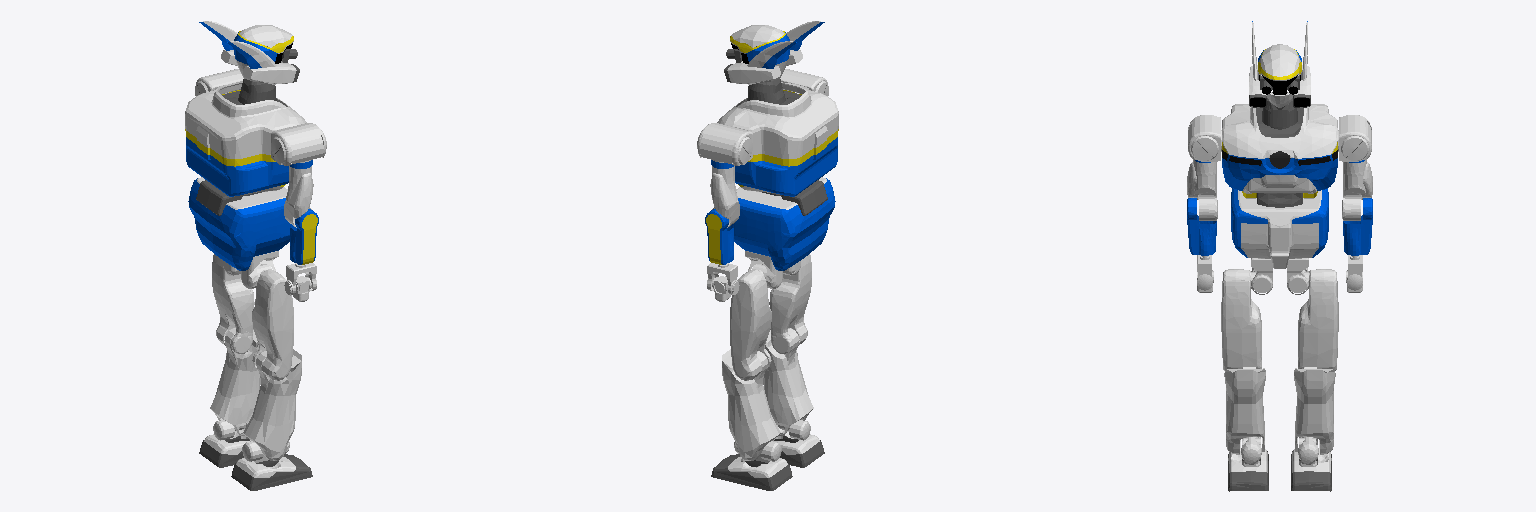
--- Render facts (derived) ---
3 views of the same robot in one strip: view 1: azimuth 30°, elevation 25°; view 2: azimuth 150°, elevation 25°; view 3: azimuth 270°, elevation 25° (orthographic).
Robot: HRP2JSK — 58 links, 57 joints (32 revolute, 3 continuous, 22 fixed); root link BODY; default pose: every joint at zero.
Visible links, largest first — view 1: CHEST_LINK1, BODY, HEAD_LINK1, RLEG_LINK2, RLEG_LINK3, LLEG_LINK3, LLEG_LINK2, RLEG_LINK5, LLEG_LINK5, RARM_LINK2, RARM_LINK3, RARM_LINK0 (+5 smaller); view 2: CHEST_LINK1, BODY, HEAD_LINK1, LLEG_LINK2, LLEG_LINK3, RLEG_LINK3, RLEG_LINK2, LLEG_LINK5, RLEG_LINK5, LARM_LINK2, LARM_LINK3, LARM_LINK0 (+5 smaller); view 3: CHEST_LINK1, BODY, LLEG_LINK2, RLEG_LINK2, HEAD_LINK1, LLEG_LINK3, RLEG_LINK3, LLEG_LINK5, RLEG_LINK5, LARM_LINK2, RARM_LINK2, LARM_LINK0 (+5 smaller).
Link boxes in pixels (left/top/right/bottom): CHEST_LINK1: left=185, top=82, right=306, bottom=196; BODY: left=188, top=177, right=290, bottom=270; HEAD_LINK1: left=199, top=21, right=299, bottom=84; RLEG_LINK2: left=252, top=269, right=293, bottom=380; RLEG_LINK3: left=243, top=349, right=301, bottom=460; LLEG_LINK3: left=210, top=328, right=260, bottom=435; LLEG_LINK2: left=212, top=254, right=254, bottom=353; RLEG_LINK5: left=231, top=441, right=312, bottom=490; LLEG_LINK5: left=199, top=420, right=251, bottom=467; RARM_LINK2: left=284, top=160, right=313, bottom=227; RARM_LINK3: left=290, top=209, right=318, bottom=264; RARM_LINK0: left=271, top=123, right=326, bottom=165; CHEST_LINK1: left=717, top=82, right=838, bottom=196; BODY: left=733, top=177, right=835, bottom=270; HEAD_LINK1: left=724, top=21, right=824, bottom=84; LLEG_LINK2: left=730, top=269, right=771, bottom=380; LLEG_LINK3: left=722, top=349, right=780, bottom=460; RLEG_LINK3: left=763, top=328, right=813, bottom=435; RLEG_LINK2: left=769, top=254, right=811, bottom=353; LLEG_LINK5: left=711, top=441, right=792, bottom=490; RLEG_LINK5: left=772, top=420, right=824, bottom=467; LARM_LINK2: left=710, top=160, right=739, bottom=227; LARM_LINK3: left=705, top=209, right=733, bottom=264; LARM_LINK0: left=697, top=123, right=752, bottom=165; CHEST_LINK1: left=1222, top=104, right=1337, bottom=198; BODY: left=1231, top=188, right=1328, bottom=268; LLEG_LINK2: left=1298, top=269, right=1338, bottom=370; RLEG_LINK2: left=1221, top=269, right=1261, bottom=370; HEAD_LINK1: left=1249, top=21, right=1310, bottom=107; LLEG_LINK3: left=1294, top=367, right=1335, bottom=454; RLEG_LINK3: left=1224, top=367, right=1265, bottom=454; LLEG_LINK5: left=1291, top=437, right=1331, bottom=491; RLEG_LINK5: left=1228, top=437, right=1268, bottom=491; LARM_LINK2: left=1342, top=159, right=1372, bottom=220; RARM_LINK2: left=1187, top=159, right=1217, bottom=220; LARM_LINK0: left=1338, top=115, right=1371, bottom=161.
Bounding box of the posed robot: 0.3537 × 0.6201 × 1.6 m (x, y, z).
Meshes: 35 distinct files referenced, 29 mesh visuals loaded (29 Collada DAE); not drawn: 2 (reference not matched to a file when rendering), 4 (file found but could not be loaded).

The robot description file, URDF, robot "HRP2JSK":
<?xml version="1.0" ?>
<!-- =================================================================================== -->
<!-- |    This document was autogenerated by xacro from [local-path]/ros/hydro/src/rtm-ros-robotics/rtmros_tutorials/hrpsys_ros_bridge_tutorials/models//HRP2JSK.urdf.xacro | -->
<!-- |    EDITING THIS FILE BY HAND IS NOT RECOMMENDED                                 | -->
<!-- =================================================================================== -->
<robot name="HRP2JSK" xmlns:xacro="http://www.ros.org/wiki/xacro" xmlns:xi="http://www.w3.org/2001/XInclude">
	<link name="BODY">
		<visual>
			<origin rpy="0 -0 0" xyz="0 0 0.715"/>
			<geometry>
				<mesh filename="package://hrpsys_ros_bridge_tutorials/models/HRP2JSK_meshes/BODY_mesh.dae" scale="1 1 1"/>
			</geometry>
		</visual>
		<collision>
			<origin rpy="0 -0 0" xyz="0 0 0.715"/>
			<geometry>
				<mesh filename="package://hrpsys_ros_bridge_tutorials/models/HRP2JSK_meshes/BODY_mesh.dae" scale="1 1 1"/>
			</geometry>
		</collision>
		<inertial>
			<mass value="15.0295"/>
			<origin rpy="0 -0 0" xyz="-0.0143514 1.2e-07 0.220077"/>
			<inertia ixx="0.161026" ixy="-2.6504e-07" ixz="0.000706962" iyy="0.09528" iyz="-1.95085e-07" izz="0.191914"/>
		</inertial>
	</link>
	<gazebo reference="BODY">
		<mu1>0.9</mu1>
		<mu2>0.9</mu2>
	</gazebo>
	<link name="CHEST_LINK0">
		<visual>
			<origin rpy="0 -0 0" xyz="0.032 0 0.3507"/>
			<geometry>
				<mesh filename="package://hrpsys_ros_bridge_tutorials/models/HRP2JSK_meshes/CHEST_LINK0_mesh.dae" scale="1 1 1"/>
			</geometry>
		</visual>
		<collision>
			<origin rpy="0 -0 0" xyz="0.032 0 0.3507"/>
			<geometry>
				<mesh filename="package://hrpsys_ros_bridge_tutorials/models/HRP2JSK_meshes/CHEST_LINK0_mesh.dae" scale="1 1 1"/>
			</geometry>
		</collision>
		<inertial>
			<mass value="0.786369"/>
			<origin rpy="0 -0 0" xyz="-0.0158016 0.00529544 -0.0251963"/>
			<inertia ixx="0.00181617" ixy="-7.322e-05" ixz="-0.00027731" iyy="0.00185079" iyz="-0.00010749" izz="0.00233207"/>
		</inertial>
	</link>
	<gazebo reference="CHEST_LINK0">
		<mu1>0.9</mu1>
		<mu2>0.9</mu2>
	</gazebo>
	<link name="CHEST_LINK1">
		<visual>
			<origin rpy="0 -0 0" xyz="0 0 0"/>
			<geometry>
				<mesh filename="package://hrpsys_ros_bridge_tutorials/models/HRP2JSK_meshes/CHEST_LINK1_mesh.dae" scale="1 1 1"/>
			</geometry>
		</visual>
		<collision>
			<origin rpy="0 -0 0" xyz="0 0 0"/>
			<geometry>
				<mesh filename="package://hrpsys_ros_bridge_tutorials/models/HRP2JSK_meshes/CHEST_LINK1_mesh.dae" scale="1 1 1"/>
			</geometry>
		</collision>
		<inertial>
			<mass value="11.5246"/>
			<origin rpy="0 -0 0" xyz="-0.0290496 0.00716411 0.121025"/>
			<inertia ixx="0.160476" ixy="-0.00135932" ixz="-0.00414493" iyy="0.136846" iyz="0.00388036" izz="0.181669"/>
		</inertial>
	</link>
	<gazebo reference="CHEST_LINK1">
		<mu1>0.9</mu1>
		<mu2>0.9</mu2>
	</gazebo>
	<link name="HEAD_LINK0">
		<visual>
			<origin rpy="0 -0 0" xyz="-0.007 0 0.2973"/>
			<geometry>
				<mesh filename="package://hrpsys_ros_bridge_tutorials/models/HRP2JSK_meshes/HEAD_LINK0_mesh.dae" scale="1 1 1"/>
			</geometry>
		</visual>
		<collision>
			<origin rpy="0 -0 0" xyz="-0.007 0 0.2973"/>
			<geometry>
				<mesh filename="package://hrpsys_ros_bridge_tutorials/models/HRP2JSK_meshes/HEAD_LINK0_mesh.dae" scale="1 1 1"/>
			</geometry>
		</collision>
		<inertial>
			<mass value="0.362181"/>
			<origin rpy="0 -0 0" xyz="-0.00090801 0.00274824 -0.00825901"/>
			<inertia ixx="0.00038285" ixy="-5.2e-07" ixz="2.24e-06" iyy="0.00021609" iyz="-7.26e-06" izz="0.0003473"/>
		</inertial>
	</link>
	<gazebo reference="HEAD_LINK0">
		<mu1>0.9</mu1>
		<mu2>0.9</mu2>
	</gazebo>
	<link name="HEAD_LINK1">
		<visual>
			<origin rpy="0 -0 0" xyz="0 0 0"/>
			<geometry>
				<mesh filename="package://hrpsys_ros_bridge_tutorials/models/HRP2JSK_meshes/HEAD_LINK1_mesh.dae" scale="1 1 1"/>
			</geometry>
		</visual>
		<collision>
			<origin rpy="0 -0 0" xyz="0 0 0"/>
			<geometry>
				<mesh filename="package://hrpsys_ros_bridge_tutorials/models/HRP2JSK_meshes/HEAD_LINK1_mesh.dae" scale="1 1 1"/>
			</geometry>
		</collision>
		<inertial>
			<mass value="0.921545"/>
			<origin rpy="0 -0 0" xyz="0.00900923 -0.00054084 0.0888815"/>
			<inertia ixx="0.00393357" ixy="4.68e-06" ixz="7.928e-05" iyy="0.00413822" iyz="-9.051e-05" izz="0.00524469"/>
		</inertial>
	</link>
	<gazebo reference="HEAD_LINK1">
		<mu1>0.9</mu1>
		<mu2>0.9</mu2>
	</gazebo>
	<link name="LARM_LINK0">
		<visual>
			<origin rpy="0 -0 0" xyz="0.008 0.25 0.181"/>
			<geometry>
				<mesh filename="package://hrpsys_ros_bridge_tutorials/models/HRP2JSK_meshes/LARM_LINK0_mesh.dae" scale="1 1 1"/>
			</geometry>
		</visual>
		<collision>
			<origin rpy="0 -0 0" xyz="0.008 0.25 0.181"/>
			<geometry>
				<mesh filename="package://hrpsys_ros_bridge_tutorials/models/HRP2JSK_meshes/LARM_LINK0_mesh.dae" scale="1 1 1"/>
			</geometry>
		</collision>
		<inertial>
			<mass value="0.810076"/>
			<origin rpy="0 -0 0" xyz="-0.00989448 -0.0464526 -0.00015316"/>
			<inertia ixx="0.00221115" ixy="0.00030424" ixz="1.47e-06" iyy="0.00184189" iyz="-4.667e-05" izz="0.00344772"/>
		</inertial>
	</link>
	<gazebo reference="LARM_LINK0">
		<mu1>0.9</mu1>
		<mu2>0.9</mu2>
	</gazebo>
	<link name="LARM_LINK1">
		<visual>
			<origin rpy="0 -0 0" xyz="0 0 0"/>
			<geometry>
				<mesh filename="package://hrpsys_ros_bridge_tutorials/models/HRP2JSK_meshes/LARM_LINK1_mesh.dae" scale="1 1 1"/>
			</geometry>
		</visual>
		<collision>
			<origin rpy="0 -0 0" xyz="0 0 0"/>
			<geometry>
				<mesh filename="package://hrpsys_ros_bridge_tutorials/models/HRP2JSK_meshes/LARM_LINK1_mesh.dae" scale="1 1 1"/>
			</geometry>
		</collision>
		<inertial>
			<mass value="1.03448"/>
			<origin rpy="0 -0 0" xyz="-0.0105646 0.0120429 -0.00948156"/>
			<inertia ixx="0.00122098" ixy="-0.00028119" ixz="9.407e-05" iyy="0.00172216" iyz="-0.00012041" izz="0.00161319"/>
		</inertial>
	</link>
	<gazebo reference="LARM_LINK1">
		<mu1>0.9</mu1>
		<mu2>0.9</mu2>
	</gazebo>
	<link name="LARM_LINK2">
		<visual>
			<origin rpy="0 -0 0" xyz="0 0 0"/>
			<geometry>
				<mesh filename="package://hrpsys_ros_bridge_tutorials/models/HRP2JSK_meshes/LARM_LINK2_mesh.dae" scale="1 1 1"/>
			</geometry>
		</visual>
		<collision>
			<origin rpy="0 -0 0" xyz="0 0 0"/>
			<geometry>
				<mesh filename="package://hrpsys_ros_bridge_tutorials/models/HRP2JSK_meshes/LARM_LINK2_mesh.dae" scale="1 1 1"/>
			</geometry>
		</collision>
		<inertial>
			<mass value="1.59929"/>
			<origin rpy="0 -0 0" xyz="-0.00543072 0.00479797 -0.166872"/>
			<inertia ixx="0.00973049" ixy="5.13304e-05" ixz="-0.000199167" iyy="0.00970372" iyz="-0.000137469" izz="0.00135331"/>
		</inertial>
	</link>
	<gazebo reference="LARM_LINK2">
		<mu1>0.9</mu1>
		<mu2>0.9</mu2>
	</gazebo>
	<link name="LARM_LINK3">
		<visual>
			<origin rpy="0 -0 0" xyz="0 0 -0.25"/>
			<geometry>
				<mesh filename="package://hrpsys_ros_bridge_tutorials/models/HRP2JSK_meshes/LARM_LINK3_mesh.dae" scale="1 1 1"/>
			</geometry>
		</visual>
		<collision>
			<origin rpy="0 -0 0" xyz="0 0 -0.25"/>
			<geometry>
				<mesh filename="package://hrpsys_ros_bridge_tutorials/models/HRP2JSK_meshes/LARM_LINK3_mesh.dae" scale="1 1 1"/>
			</geometry>
		</collision>
		<inertial>
			<mass value="0.77725"/>
			<origin rpy="0 -0 0" xyz="-9.27e-06 0.0161684 -0.0627016"/>
			<inertia ixx="0.00232668" ixy="-7e-08" ixz="-3.1e-07" iyy="0.00212476" iyz="-0.00015097" izz="0.00056363"/>
		</inertial>
	</link>
	<gazebo reference="LARM_LINK3">
		<mu1>0.9</mu1>
		<mu2>0.9</mu2>
	</gazebo>
	<link name="LARM_LINK4">
		<visual>
			<origin rpy="0 -0 0" xyz="0 0 -0.25"/>
			<geometry>
				<mesh filename="package://hrpsys_ros_bridge_tutorials/models/HRP2JSK_meshes/LARM_LINK4_mesh.dae" scale="1 1 1"/>
			</geometry>
		</visual>
		<collision>
			<origin rpy="0 -0 0" xyz="0 0 -0.25"/>
			<geometry>
				<mesh filename="package://hrpsys_ros_bridge_tutorials/models/HRP2JSK_meshes/LARM_LINK4_mesh.dae" scale="1 1 1"/>
			</geometry>
		</collision>
		<inertial>
			<mass value="0.328543"/>
			<origin rpy="0 -0 0" xyz="-0.00840122 -1.406e-05 0.0472199"/>
			<inertia ixx="0.00084438" ixy="4e-08" ixz="-0.00013812" iyy="0.00105692" iyz="2.3e-07" izz="0.00034468"/>
		</inertial>
	</link>
	<gazebo reference="LARM_LINK4">
		<mu1>0.9</mu1>
		<mu2>0.9</mu2>
	</gazebo>
	<link name="LARM_LINK5">
		<visual>
			<origin rpy="0 -0 0" xyz="0 0 0"/>
			<geometry>
				<mesh filename="package://hrpsys_ros_bridge_tutorials/models/HRP2JSK_meshes/LARM_LINK5_mesh.dae" scale="1 1 1"/>
			</geometry>
		</visual>
		<collision>
			<origin rpy="0 -0 0" xyz="0 0 0"/>
			<geometry>
				<mesh filename="package://hrpsys_ros_bridge_tutorials/models/HRP2JSK_meshes/LARM_LINK5_mesh.dae" scale="1 1 1"/>
			</geometry>
		</collision>
		<inertial>
			<mass value="0.460767"/>
			<origin rpy="0 -0 0" xyz="0.00361678 0.00180569 -0.00656872"/>
			<inertia ixx="0.00026432" ixy="3.17e-06" ixz="-1.177e-05" iyy="0.0002938" iyz="-1.08e-05" izz="0.0002986"/>
		</inertial>
	</link>
	<gazebo reference="LARM_LINK5">
		<mu1>0.9</mu1>
		<mu2>0.9</mu2>
	</gazebo>
	<link name="LARM_LINK6">
		<visual>
			<origin rpy="0 -0 0" xyz="0 0 0"/>
			<geometry>
				<mesh filename="package://hrpsys_ros_bridge_tutorials/models/HRP2JSK_meshes/LARM_LINK6_mesh.dae" scale="1 1 1"/>
			</geometry>
		</visual>
		<collision>
			<origin rpy="0 -0 0" xyz="0 0 0"/>
			<geometry>
				<mesh filename="package://hrpsys_ros_bridge_tutorials/models/HRP2JSK_meshes/LARM_LINK6_mesh.dae" scale="1 1 1"/>
			</geometry>
		</collision>
		<inertial>
			<mass value="0.756491"/>
			<origin rpy="0 -0 0" xyz="0.00067085 0.00738842 -0.085722"/>
			<inertia ixx="0.00227076" ixy="6.3e-07" ixz="3.217e-05" iyy="0.00214173" iyz="-3.72e-06" izz="0.00067255"/>
		</inertial>
	</link>
	<gazebo reference="LARM_LINK6">
		<mu1>0.9</mu1>
		<mu2>0.9</mu2>
	</gazebo>
	<link name="LARM_LINK7">
		<visual>
			<origin rpy="0 -0 0" xyz="0 -0.0169 -0.114"/>
			<geometry>
				<mesh filename="package://hrpsys_ros_bridge_tutorials/models/HRP2JSK_meshes/LARM_LINK7_mesh.dae" scale="1 1 1"/>
			</geometry>
		</visual>
		<collision>
			<origin rpy="0 -0 0" xyz="0 -0.0169 -0.114"/>
			<geometry>
				<mesh filename="package://hrpsys_ros_bridge_tutorials/models/HRP2JSK_meshes/LARM_LINK7_mesh.dae" scale="1 1 1"/>
			</geometry>
		</collision>
		<inertial>
			<mass value="0.0843421"/>
			<origin rpy="0 -0 0" xyz="0.00445476 0.00013498 -0.0281197"/>
			<inertia ixx="8.154e-05" ixy="-5e-08" ixz="1.084e-05" iyy="8.698e-05" iyz="3.1e-07" izz="1.3e-05"/>
		</inertial>
	</link>
	<gazebo reference="LARM_LINK7">
		<mu1>0.9</mu1>
		<mu2>0.9</mu2>
	</gazebo>
	<link name="RARM_LINK0">
		<visual>
			<origin rpy="0 -0 0" xyz="0.008 -0.25 0.181"/>
			<geometry>
				<mesh filename="package://hrpsys_ros_bridge_tutorials/models/HRP2JSK_meshes/RARM_LINK0_mesh.dae" scale="1 1 1"/>
			</geometry>
		</visual>
		<collision>
			<origin rpy="0 -0 0" xyz="0.008 -0.25 0.181"/>
			<geometry>
				<mesh filename="package://hrpsys_ros_bridge_tutorials/models/HRP2JSK_meshes/RARM_LINK0_mesh.dae" scale="1 1 1"/>
			</geometry>
		</collision>
		<inertial>
			<mass value="0.810076"/>
			<origin rpy="0 -0 0" xyz="-0.00989448 0.0464526 -0.00015316"/>
			<inertia ixx="0.00221115" ixy="-0.00030424" ixz="1.47e-06" iyy="0.00184189" iyz="4.667e-05" izz="0.00344772"/>
		</inertial>
	</link>
	<gazebo reference="RARM_LINK0">
		<mu1>0.9</mu1>
		<mu2>0.9</mu2>
	</gazebo>
	<link name="RARM_LINK1">
		<visual>
			<origin rpy="0 -0 0" xyz="0 0 0"/>
			<geometry>
				<mesh filename="package://hrpsys_ros_bridge_tutorials/models/HRP2JSK_meshes/RARM_LINK1_mesh.dae" scale="1 1 1"/>
			</geometry>
		</visual>
		<collision>
			<origin rpy="0 -0 0" xyz="0 0 0"/>
			<geometry>
				<mesh filename="package://hrpsys_ros_bridge_tutorials/models/HRP2JSK_meshes/RARM_LINK1_mesh.dae" scale="1 1 1"/>
			</geometry>
		</collision>
		<inertial>
			<mass value="1.03448"/>
			<origin rpy="0 -0 0" xyz="-0.0105646 -0.0120429 -0.00948156"/>
			<inertia ixx="0.00122098" ixy="0.00028119" ixz="9.407e-05" iyy="0.00172216" iyz="0.00012041" izz="0.00161319"/>
		</inertial>
	</link>
	<gazebo reference="RARM_LINK1">
		<mu1>0.9</mu1>
		<mu2>0.9</mu2>
	</gazebo>
	<link name="RARM_LINK2">
		<visual>
			<origin rpy="0 -0 0" xyz="0 0 0"/>
			<geometry>
				<mesh filename="package://hrpsys_ros_bridge_tutorials/models/HRP2JSK_meshes/RARM_LINK2_mesh.dae" scale="1 1 1"/>
			</geometry>
		</visual>
		<collision>
			<origin rpy="0 -0 0" xyz="0 0 0"/>
			<geometry>
				<mesh filename="package://hrpsys_ros_bridge_tutorials/models/HRP2JSK_meshes/RARM_LINK2_mesh.dae" scale="1 1 1"/>
			</geometry>
		</collision>
		<inertial>
			<mass value="1.59929"/>
			<origin rpy="0 -0 0" xyz="-0.00543072 -0.00479797 -0.166872"/>
			<inertia ixx="0.00973049" ixy="-5.13304e-05" ixz="-0.000199167" iyy="0.00970372" iyz="0.000137469" izz="0.00135331"/>
		</inertial>
	</link>
	<gazebo reference="RARM_LINK2">
		<mu1>0.9</mu1>
		<mu2>0.9</mu2>
	</gazebo>
	<link name="RARM_LINK3">
		<visual>
			<origin rpy="0 -0 0" xyz="0 0 -0.25"/>
			<geometry>
				<mesh filename="package://hrpsys_ros_bridge_tutorials/models/HRP2JSK_meshes/RARM_LINK3_mesh.dae" scale="1 1 1"/>
			</geometry>
		</visual>
		<collision>
			<origin rpy="0 -0 0" xyz="0 0 -0.25"/>
			<geometry>
				<mesh filename="package://hrpsys_ros_bridge_tutorials/models/HRP2JSK_meshes/RARM_LINK3_mesh.dae" scale="1 1 1"/>
			</geometry>
		</collision>
		<inertial>
			<mass value="0.77725"/>
			<origin rpy="0 -0 0" xyz="-9.27e-06 -0.0161684 -0.0627016"/>
			<inertia ixx="0.00232668" ixy="7e-08" ixz="-3.1e-07" iyy="0.00212476" iyz="0.00015097" izz="0.00056363"/>
		</inertial>
	</link>
	<gazebo reference="RARM_LINK3">
		<mu1>0.9</mu1>
		<mu2>0.9</mu2>
	</gazebo>
	<link name="RARM_LINK4">
		<visual>
			<origin rpy="0 -0 0" xyz="0 0 -0.25"/>
			<geometry>
				<mesh filename="package://hrpsys_ros_bridge_tutorials/models/HRP2JSK_meshes/RARM_LINK4_mesh.dae" scale="1 1 1"/>
			</geometry>
		</visual>
		<collision>
			<origin rpy="0 -0 0" xyz="0 0 -0.25"/>
			<geometry>
				<mesh filename="package://hrpsys_ros_bridge_tutorials/models/HRP2JSK_meshes/RARM_LINK4_mesh.dae" scale="1 1 1"/>
			</geometry>
		</collision>
		<inertial>
			<mass value="0.328543"/>
			<origin rpy="0 -0 0" xyz="-0.00840122 1.406e-05 0.0472199"/>
			<inertia ixx="0.00084438" ixy="-4e-08" ixz="-0.00013812" iyy="0.00105692" iyz="-2.3e-07" izz="0.00034468"/>
		</inertial>
	</link>
	<gazebo reference="RARM_LINK4">
		<mu1>0.9</mu1>
		<mu2>0.9</mu2>
	</gazebo>
	<link name="RARM_LINK5">
		<visual>
			<origin rpy="0 -0 0" xyz="0 0 0"/>
			<geometry>
				<mesh filename="package://hrpsys_ros_bridge_tutorials/models/HRP2JSK_meshes/RARM_LINK5_mesh.dae" scale="1 1 1"/>
			</geometry>
		</visual>
		<collision>
			<origin rpy="0 -0 0" xyz="0 0 0"/>
			<geometry>
				<mesh filename="package://hrpsys_ros_bridge_tutorials/models/HRP2JSK_meshes/RARM_LINK5_mesh.dae" scale="1 1 1"/>
			</geometry>
		</collision>
		<inertial>
			<mass value="0.460767"/>
			<origin rpy="0 -0 0" xyz="0.00361678 -0.00180569 -0.00656872"/>
			<inertia ixx="0.00026432" ixy="-3.17e-06" ixz="-1.177e-05" iyy="0.0002938" iyz="1.08e-05" izz="0.0002986"/>
		</inertial>
	</link>
	<gazebo reference="RARM_LINK5">
		<mu1>0.9</mu1>
		<mu2>0.9</mu2>
	</gazebo>
	<link name="RARM_LINK6">
		<visual>
			<origin rpy="0 -0 0" xyz="0 0 0"/>
			<geometry>
				<mesh filename="package://hrpsys_ros_bridge_tutorials/models/HRP2JSK_meshes/RARM_LINK6_mesh.dae" scale="1 1 1"/>
			</geometry>
		</visual>
		<collision>
			<origin rpy="0 -0 0" xyz="0 0 0"/>
			<geometry>
				<mesh filename="package://hrpsys_ros_bridge_tutorials/models/HRP2JSK_meshes/RARM_LINK6_mesh.dae" scale="1 1 1"/>
			</geometry>
		</collision>
		<inertial>
			<mass value="0.756491"/>
			<origin rpy="0 -0 0" xyz="0.00067085 -0.00738842 -0.085722"/>
			<inertia ixx="0.00227076" ixy="-6.3e-07" ixz="3.217e-05" iyy="0.00214173" iyz="3.72e-06" izz="0.00067255"/>
		</inertial>
	</link>
	<gazebo reference="RARM_LINK6">
		<mu1>0.9</mu1>
		<mu2>0.9</mu2>
	</gazebo>
	<link name="RARM_LINK7">
		<visual>
			<origin rpy="0 -0 0" xyz="0 0.0169 -0.114"/>
			<geometry>
				<mesh filename="package://hrpsys_ros_bridge_tutorials/models/HRP2JSK_meshes/RARM_LINK7_mesh.dae" scale="1 1 1"/>
			</geometry>
		</visual>
		<collision>
			<origin rpy="0 -0 0" xyz="0 0.0169 -0.114"/>
			<geometry>
				<mesh filename="package://hrpsys_ros_bridge_tutorials/models/HRP2JSK_meshes/RARM_LINK7_mesh.dae" scale="1 1 1"/>
			</geometry>
		</collision>
		<inertial>
			<mass value="0.0843421"/>
			<origin rpy="0 -0 0" xyz="0.00445476 -0.00013498 -0.0281197"/>
			<inertia ixx="8.154e-05" ixy="5e-08" ixz="1.084e-05" iyy="8.698e-05" iyz="-3.1e-07" izz="1.3e-05"/>
		</inertial>
	</link>
	<gazebo reference="RARM_LINK7">
		<mu1>0.9</mu1>
		<mu2>0.9</mu2>
	</gazebo>
	<link name="LLEG_LINK0">
		<visual>
			<origin rpy="0 -0 0" xyz="0 0.06 0"/>
			<geometry>
				<mesh filename="package://hrpsys_ros_bridge_tutorials/models/HRP2JSK_meshes/LLEG_LINK0_mesh.dae" scale="1 1 1"/>
			</geometry>
		</visual>
		<collision>
			<origin rpy="0 -0 0" xyz="0 0.06 0"/>
			<geometry>
				<mesh filename="package://hrpsys_ros_bridge_tutorials/models/HRP2JSK_meshes/LLEG_LINK0_mesh.dae" scale="1 1 1"/>
			</geometry>
		</collision>
		<inertial>
			<mass value="1.16852"/>
			<origin rpy="0 -0 0" xyz="-0.0103793 -0.00484329 0.0649015"/>
			<inertia ixx="0.00285998" ixy="1.43424e-05" ixz="-0.000555819" iyy="0.00352974" iyz="-8.84038e-06" izz="0.00145427"/>
		</inertial>
	</link>
	<gazebo reference="LLEG_LINK0">
		<mu1>0.9</mu1>
		<mu2>0.9</mu2>
	</gazebo>
	<link name="LLEG_LINK1">
		<visual>
			<origin rpy="0 -0 0" xyz="0 0 0"/>
			<geometry>
				<mesh filename="package://hrpsys_ros_bridge_tutorials/models/HRP2JSK_meshes/LLEG_LINK1_mesh.dae" scale="1 1 1"/>
			</geometry>
		</visual>
		<collision>
			<origin rpy="0 -0 0" xyz="0 0 0"/>
			<geometry>
				<mesh filename="package://hrpsys_ros_bridge_tutorials/models/HRP2JSK_meshes/LLEG_LINK1_mesh.dae" scale="1 1 1"/>
			</geometry>
		</collision>
		<inertial>
			<mass value="0.80553"/>
			<origin rpy="0 -0 0" xyz="-0.00039826 0.0261287 -0.00292156"/>
			<inertia ixx="0.00126683" ixy="-1.211e-05" ixz="1.64e-06" iyy="0.00050656" iyz="-6.938e-05" izz="0.00132021"/>
		</inertial>
	</link>
	<gazebo reference="LLEG_LINK1">
		<mu1>0.9</mu1>
		<mu2>0.9</mu2>
	</gazebo>
	<link name="LLEG_LINK2">
		<visual>
			<origin rpy="0 -0 0" xyz="0 0 0"/>
			<geometry>
				<mesh filename="package://hrpsys_ros_bridge_tutorials/models/HRP2JSK_meshes/LLEG_LINK2_mesh.dae" scale="1 1 1"/>
			</geometry>
		</visual>
		<collision>
			<origin rpy="0 -0 0" xyz="0 0 0"/>
			<geometry>
				<mesh filename="package://hrpsys_ros_bridge_tutorials/models/HRP2JSK_meshes/LLEG_LINK2_mesh.dae" scale="1 1 1"/>
			</geometry>
		</collision>
		<inertial>
			<mass value="2.07632"/>
			<origin rpy="0 -0 0" xyz="0.00345946 0.0779422 -0.151684"/>
			<inertia ixx="0.0261976" ixy="3.95406e-05" ixz="0.000573517" iyy="0.0249235" iyz="-0.000670077" izz="0.00376439"/>
		</inertial>
	</link>
	<gazebo reference="LLEG_LINK2">
		<mu1>0.9</mu1>
		<mu2>0.9</mu2>
	</gazebo>
	<link name="LLEG_LINK3">
		<visual>
			<origin rpy="0 -0 0" xyz="0 0 -0.3"/>
			<geometry>
				<mesh filename="package://hrpsys_ros_bridge_tutorials/models/HRP2JSK_meshes/LLEG_LINK3_mesh.dae" scale="1 1 1"/>
			</geometry>
		</visual>
		<collision>
			<origin rpy="0 -0 0" xyz="0 0 -0.3"/>
			<geometry>
				<mesh filename="package://hrpsys_ros_bridge_tutorials/models/HRP2JSK_meshes/LLEG_LINK3_mesh.dae" scale="1 1 1"/>
			</geometry>
		</collision>
		<inertial>
			<mass value="1.74762"/>
			<origin rpy="0 -0 0" xyz="0.0179878 0.0579164 -0.13839"/>
			<inertia ixx="0.0223269" ixy="9.39152e-05" ixz="-0.00224766" iyy="0.022506" iyz="0.000745178" izz="0.0045544"/>
		</inertial>
	</link>
	<gazebo reference="LLEG_LINK3">
		<mu1>0.9</mu1>
		<mu2>0.9</mu2>
	</gazebo>
	<link name="LLEG_LINK4">
		<visual>
			<origin rpy="0 -0 0" xyz="0 0.035 -0.3"/>
			<geometry>
				<mesh filename="package://hrpsys_ros_bridge_tutorials/models/HRP2JSK_meshes/LLEG_LINK4_mesh.dae" scale="1 1 1"/>
			</geometry>
		</visual>
		<collision>
			<origin rpy="0 -0 0" xyz="0 0.035 -0.3"/>
			<geometry>
				<mesh filename="package://hrpsys_ros_bridge_tutorials/models/HRP2JSK_meshes/LLEG_LINK4_mesh.dae" scale="1 1 1"/>
			</geometry>
		</collision>
		<inertial>
			<mass value="0.65375"/>
			<origin rpy="0 -0 0" xyz="0.00827083 0.00133301 -0.002418"/>
			<inertia ixx="0.00027773" ixy="5.26e-06" ixz="1.354e-05" iyy="0.00078966" iyz="3.59e-06" izz="0.00086039"/>
		</inertial>
	</link>
	<gazebo reference="LLEG_LINK4">
		<mu1>0.9</mu1>
		<mu2>0.9</mu2>
	</gazebo>
	<link name="LLEG_LINK5">
		<visual>
			<origin rpy="0 -0 0" xyz="0 0 0"/>
			<geometry>
				<mesh filename="package://hrpsys_ros_bridge_tutorials/models/HRP2JSK_meshes/LLEG_LINK5_mesh.dae" scale="1 1 1"/>
			</geometry>
		</visual>
		<inertial>
			<mass value="1.63877"/>
			<origin rpy="0 -0 0" xyz="-0.00066419 0.00468922 -0.0653813"/>
			<inertia ixx="0.00400076" ixy="-9.983e-05" ixz="0.00079295" iyy="0.00687611" iyz="0.00018541" izz="0.00711516"/>
		</inertial>
		<collision>
			<origin rpy="0 -0 0" xyz="0.015 0.010 -0.08"/>
			<geometry>
				<box size="0.240 0.138 0.07"/>
			</geometry>
		</collision>
	</link>
	<link name="RLEG_LINK0">
		<visual>
			<origin rpy="0 -0 0" xyz="0 -0.06 0"/>
			<geometry>
				<mesh filename="package://hrpsys_ros_bridge_tutorials/models/HRP2JSK_meshes/RLEG_LINK0_mesh.dae" scale="1 1 1"/>
			</geometry>
		</visual>
		<collision>
			<origin rpy="0 -0 0" xyz="0 -0.06 0"/>
			<geometry>
				<mesh filename="package://hrpsys_ros_bridge_tutorials/models/HRP2JSK_meshes/RLEG_LINK0_mesh.dae" scale="1 1 1"/>
			</geometry>
		</collision>
		<inertial>
			<mass value="1.16852"/>
			<origin rpy="0 -0 0" xyz="-0.0103793 0.00484329 0.0649015"/>
			<inertia ixx="0.00285998" ixy="-1.43424e-05" ixz="-0.000555819" iyy="0.00352974" iyz="8.84038e-06" izz="0.00145427"/>
		</inertial>
	</link>
	<gazebo reference="RLEG_LINK0">
		<mu1>0.9</mu1>
		<mu2>0.9</mu2>
	</gazebo>
	<link name="RLEG_LINK1">
		<visual>
			<origin rpy="0 -0 0" xyz="0 0 0"/>
			<geometry>
				<mesh filename="package://hrpsys_ros_bridge_tutorials/models/HRP2JSK_meshes/RLEG_LINK1_mesh.dae" scale="1 1 1"/>
			</geometry>
		</visual>
		<collision>
			<origin rpy="0 -0 0" xyz="0 0 0"/>
			<geometry>
				<mesh filename="package://hrpsys_ros_bridge_tutorials/models/HRP2JSK_meshes/RLEG_LINK1_mesh.dae" scale="1 1 1"/>
			</geometry>
		</collision>
		<inertial>
			<mass value="0.80553"/>
			<origin rpy="0 -0 0" xyz="-0.00039826 -0.0261287 -0.00292156"/>
			<inertia ixx="0.00126683" ixy="1.211e-05" ixz="1.64e-06" iyy="0.00050656" iyz="6.938e-05" izz="0.00132021"/>
		</inertial>
	</link>
	<gazebo reference="RLEG_LINK1">
		<mu1>0.9</mu1>
		<mu2>0.9</mu2>
	</gazebo>
	<link name="RLEG_LINK2">
		<visual>
			<origin rpy="0 -0 0" xyz="0 0 0"/>
			<geometry>
				<mesh filename="package://hrpsys_ros_bridge_tutorials/models/HRP2JSK_meshes/RLEG_LINK2_mesh.dae" scale="1 1 1"/>
			</geometry>
		</visual>
		<collision>
			<origin rpy="0 -0 0" xyz="0 0 0"/>
			<geometry>
				<mesh filename="package://hrpsys_ros_bridge_tutorials/models/HRP2JSK_meshes/RLEG_LINK2_mesh.dae" scale="1 1 1"/>
			</geometry>
		</collision>
		<inertial>
			<mass value="2.07632"/>
			<origin rpy="0 -0 0" xyz="0.00345946 -0.0779422 -0.151684"/>
			<inertia ixx="0.0261976" ixy="-3.95406e-05" ixz="0.000573517" iyy="0.0249235" iyz="0.000670077" izz="0.00376439"/>
		</inertial>
	</link>
	<gazebo reference="RLEG_LINK2">
		<mu1>0.9</mu1>
		<mu2>0.9</mu2>
	</gazebo>
	<link name="RLEG_LINK3">
		<visual>
			<origin rpy="0 -0 0" xyz="0 0 -0.3"/>
			<geometry>
				<mesh filename="package://hrpsys_ros_bridge_tutorials/models/HRP2JSK_meshes/RLEG_LINK3_mesh.dae" scale="1 1 1"/>
			</geometry>
		</visual>
		<collision>
			<origin rpy="0 -0 0" xyz="0 0 -0.3"/>
			<geometry>
				<mesh filename="package://hrpsys_ros_bridge_tutorials/models/HRP2JSK_meshes/RLEG_LINK3_mesh.dae" scale="1 1 1"/>
			</geometry>
		</collision>
		<inertial>
			<mass value="1.74762"/>
			<origin rpy="0 -0 0" xyz="0.0179878 -0.0579164 -0.13839"/>
			<inertia ixx="0.0223269" ixy="-9.39152e-05" ixz="-0.00224766" iyy="0.022506" iyz="-0.000745178" izz="0.0045544"/>
		</inertial>
	</link>
	<gazebo reference="RLEG_LINK3">
		<mu1>0.9</mu1>
		<mu2>0.9</mu2>
	</gazebo>
	<link name="RLEG_LINK4">
		<visual>
			<origin rpy="0 -0 0" xyz="0 -0.035 -0.3"/>
			<geometry>
				<mesh filename="package://hrpsys_ros_bridge_tutorials/models/HRP2JSK_meshes/RLEG_LINK4_mesh.dae" scale="1 1 1"/>
			</geometry>
		</visual>
		<collision>
			<origin rpy="0 -0 0" xyz="0 -0.035 -0.3"/>
			<geometry>
				<mesh filename="package://hrpsys_ros_bridge_tutorials/models/HRP2JSK_meshes/RLEG_LINK4_mesh.dae" scale="1 1 1"/>
			</geometry>
		</collision>
		<inertial>
			<mass value="0.65375"/>
			<origin rpy="0 -0 0" xyz="0.00827083 -0.00133301 -0.002418"/>
			<inertia ixx="0.00027773" ixy="-5.26e-06" ixz="1.354e-05" iyy="0.00078966" iyz="-3.59e-06" izz="0.00086039"/>
		</inertial>
	</link>
	<gazebo reference="RLEG_LINK4">
		<mu1>0.9</mu1>
		<mu2>0.9</mu2>
	</gazebo>
	<link name="RLEG_LINK5">
		<visual>
			<origin rpy="0 -0 0" xyz="0 0 0"/>
			<geometry>
				<mesh filename="package://hrpsys_ros_bridge_tutorials/models/HRP2JSK_meshes/RLEG_LINK5_mesh.dae" scale="1 1 1"/>
			</geometry>
		</visual>
		<inertial>
			<mass value="1.63877"/>
			<origin rpy="0 -0 0" xyz="-0.00066419 -0.00468922 -0.0653813"/>
			<inertia ixx="0.00400076" ixy="9.983e-05" ixz="0.00079295" iyy="0.00687611" iyz="-0.00018541" izz="0.00711516"/>
		</inertial>
		<collision>
			<origin rpy="0 -0 0" xyz="0.015 -0.010 -0.08"/>
			<geometry>
				<box size="0.240 0.138 0.07"/>
			</geometry>
		</collision>
	</link>
	<joint name="CHEST_JOINT0" type="revolute">
		<parent link="BODY"/>
		<child link="CHEST_LINK0"/>
		<origin rpy="0 -0 0 " xyz="0.032 0 0.3507"/>
		<axis xyz="0 0 1"/>
		<limit effort="151.8" lower="-0.785398" upper="0.785398" velocity="4.40217"/>
		<dynamics damping="0.2" friction="0"/>
	</joint>
	<transmission name="CHEST_JOINT0_trans" type="pr2_mechanism_model/SimpleTransmission">
		<actuator name="CHEST_JOINT0_motor"/>
		<joint name="CHEST_JOINT0"/>
		<mechanicalReduction>1</mechanicalReduction>
	</transmission>
	<gazebo reference="CHEST_JOINT0">
		<cfmDamping>0.4</cfmDamping>
	</gazebo>
	<joint name="CHEST_JOINT1" type="revolute">
		<parent link="CHEST_LINK0"/>
		<child link="CHEST_LINK1"/>
		<origin rpy="0 -0 0 " xyz="0 0 0"/>
		<axis xyz="0 1 0"/>
		<limit effort="278.9" lower="-0.0872665" upper="1.0472" velocity="2.3963"/>
		<dynamics damping="0.2" friction="0"/>
	</joint>
	<transmission name="CHEST_JOINT1_trans" type="pr2_mechanism_model/SimpleTransmission">
		<actuator name="CHEST_JOINT1_motor"/>
		<joint name="CHEST_JOINT1"/>
		<mechanicalReduction>1</mechanicalReduction>
	</transmission>
	<gazebo reference="CHEST_JOINT1">
		<cfmDamping>0.4</cfmDamping>
	</gazebo>
	<joint name="HEAD_JOINT0" type="revolute">
		<parent link="CHEST_LINK1"/>
		<child link="HEAD_LINK0"/>
		<origin rpy="0 -0 0 " xyz="-0.007 0 0.2973"/>
		<axis xyz="0 0 1"/>
		<limit effort="9.6" lower="-0.785398" upper="0.785398" velocity="6.87679"/>
		<dynamics damping="0.2" friction="0"/>
	</joint>
	<transmission name="HEAD_JOINT0_trans" type="pr2_mechanism_model/SimpleTransmission">
		<actuator name="HEAD_JOINT0_motor"/>
		<joint name="HEAD_JOINT0"/>
		<mechanicalReduction>1</mechanicalReduction>
	</transmission>
	<gazebo reference="HEAD_JOINT0">
		<cfmDamping>0.4</cfmDamping>
	</gazebo>
	<joint name="HEAD_JOINT1" type="revolute">
		<parent link="HEAD_LINK0"/>
		<child link="HEAD_LINK1"/>
		<origin rpy="0 -0 0 " xyz="0 0 0"/>
		<axis xyz="0 1 0"/>
		<limit effort="9.6" lower="-0.523599" upper="0.759218" velocity="6.87679"/>
		<dynamics damping="0.2" friction="0"/>
	</joint>
	<transmission name="HEAD_JOINT1_trans" type="pr2_mechanism_model/SimpleTransmission">
		<actuator name="HEAD_JOINT1_motor"/>
		<joint name="HEAD_JOINT1"/>
		<mechanicalReduction>1</mechanicalReduction>
	</transmission>
	<gazebo reference="HEAD_JOINT1">
		<cfmDamping>0.4</cfmDamping>
	</gazebo>
	<joint name="LARM_JOINT0" type="revolute">
		<parent link="CHEST_LINK1"/>
		<child link="LARM_LINK0"/>
		<origin rpy="0 -0 0 " xyz="0.008 0.25 0.181"/>
		<axis xyz="0 1 0"/>
		<limit effort="160.3" lower="-3.14159" upper="1.0472" velocity="4.17044"/>
		<dynamics damping="0.2" friction="0"/>
	</joint>
	<transmission name="LARM_JOINT0_trans" type="pr2_mechanism_model/SimpleTransmission">
		<actuator name="LARM_JOINT0_motor"/>
		<joint name="LARM_JOINT0"/>
		<mechanicalReduction>1</mechanicalReduction>
	</transmission>
	<gazebo reference="LARM_JOINT0">
		<cfmDamping>0.4</cfmDamping>
	</gazebo>
	<joint name="LARM_JOINT1" type="revolute">
		<parent link="LARM_LINK0"/>
		<child link="LARM_LINK1"/>
		<origin rpy="0 -0 0 " xyz="0 0 0"/>
		<axis xyz="1 0 0"/>
		<limit effort="100.4" lower="-0.174533" upper="1.65806" velocity="2.4192"/>
		<dynamics damping="0.2" friction="0"/>
	</joint>
	<transmission name="LARM_JOINT1_trans" type="pr2_mechanism_model/SimpleTransmission">
		<actuator name="LARM_JOINT1_motor"/>
		<joint name="LARM_JOINT1"/>
		<mechanicalReduction>1</mechanicalReduction>
	</transmission>
	<gazebo reference="LARM_JOINT1">
		<cfmDamping>0.4</cfmDamping>
	</gazebo>
	<joint name="LARM_JOINT2" type="revolute">
		<parent link="LARM_LINK1"/>
		<child link="LARM_LINK2"/>
		<origin rpy="0 -0 0 " xyz="0 0 0"/>
		<axis xyz="0 0 1"/>
		<limit effort="48.7" lower="-1.6057" upper="1.6057" velocity="4.15699"/>
		<dynamics damping="0.2" friction="0"/>
	</joint>
	<transmission name="LARM_JOINT2_trans" type="pr2_mechanism_model/SimpleTransmission">
		<actuator name="LARM_JOINT2_motor"/>
		<joint name="LARM_JOINT2"/>
		<mechanicalReduction>1</mechanicalReduction>
	</transmission>
	<gazebo reference="LARM_JOINT2">
		<cfmDamping>0.4</cfmDamping>
	</gazebo>
	<joint name="LARM_JOINT3" type="revolute">
		<parent link="LARM_LINK2"/>
		<child link="LARM_LINK3"/>
		<origin rpy="0 -0 0 " xyz="0 0 -0.25"/>
		<axis xyz="0 1 0"/>
		<limit effort="108.5" lower="-2.3911" upper="0.0349066" velocity="2.23776"/>
		<dynamics damping="0.2" friction="0"/>
	</joint>
	<transmission name="LARM_JOINT3_trans" type="pr2_mechanism_model/SimpleTransmission">
		<actuator name="LARM_JOINT3_motor"/>
		<joint name="LARM_JOINT3"/>
		<mechanicalReduction>1</mechanicalReduction>
	</transmission>
	<gazebo reference="LARM_JOINT3">
		<cfmDamping>0.4</cfmDamping>
	</gazebo>
	<joint name="LARM_JOINT4" type="revolute">
		<parent link="LARM_LINK3"/>
		<child link="LARM_LINK4"/>
		<origin rpy="0 -0 0 " xyz="0 0 -0.25"/>
		<axis xyz="0 0 1"/>
		<limit effort="13.9" lower="-1.85005" upper="1.85005" velocity="4.72794"/>
		<dynamics damping="0.2" friction="0"/>
	</joint>
	<transmission name="LARM_JOINT4_trans" type="pr2_mechanism_model/SimpleTransmission">
		<actuator name="LARM_JOINT4_motor"/>
		<joint name="LARM_JOINT4"/>
		<mechanicalReduction>1</mechanicalReduction>
	</transmission>
	<gazebo reference="LARM_JOINT4">
		<cfmDamping>0.4</cfmDamping>
	</gazebo>
	<joint name="LARM_JOINT5" type="revolute">
		<parent link="LARM_LINK4"/>
		<child link="LARM_LINK5"/>
		<origin rpy="0 -0 0 " xyz="0 0 0"/>
		<axis xyz="1 0 0"/>
		<limit effort="18.74" lower="-1.6057" upper="1.6057" velocity="6.63609"/>
		<dynamics damping="0.2" friction="0"/>
	</joint>
	<transmission name="LARM_JOINT5_trans" type="pr2_mechanism_model/SimpleTransmission">
		<actuator name="LARM_JOINT5_motor"/>
		<joint name="LARM_JOINT5"/>
		<mechanicalReduction>1</mechanicalReduction>
	</transmission>
	<gazebo reference="LARM_JOINT5">
		<cfmDamping>0.4</cfmDamping>
	</gazebo>
	<joint name="LARM_JOINT6" type="revolute">
		<parent link="LARM_LINK5"/>
		<child link="LARM_LINK6"/>
		<origin rpy="0 -0 0 " xyz="0 0 0"/>
		<axis xyz="0 1 0"/>
		<limit effort="16.02" lower="-1.6057" upper="1.6057" velocity="2.77088"/>
		<dynamics damping="0.2" friction="0"/>
	</joint>
	<transmission name="LARM_JOINT6_trans" type="pr2_mechanism_model/SimpleTransmission">
		<actuator name="LARM_JOINT6_motor"/>
		<joint name="LARM_JOINT6"/>
		<mechanicalReduction>1</mechanicalReduction>
	</transmission>
	<gazebo reference="LARM_JOINT6">
		<cfmDamping>0.4</cfmDamping>
	</gazebo>
	<joint name="LARM_JOINT7" type="revolute">
		<parent link="LARM_LINK6"/>
		<child link="LARM_LINK7"/>
		<origin rpy="0 -0 0 " xyz="0 -0.0169 -0.114"/>
		<axis xyz="1 0 0"/>
		<limit effort="13.9" lower="-2.35619" upper="0.279253" velocity="4.72794"/>
		<dynamics damping="0.2" friction="0"/>
	</joint>
	<transmission name="LARM_JOINT7_trans" type="pr2_mechanism_model/SimpleTransmission">
		<actuator name="LARM_JOINT7_motor"/>
		<joint name="LARM_JOINT7"/>
		<mechanicalReduction>1</mechanicalReduction>
	</transmission>
	<gazebo reference="LARM_JOINT7">
		<cfmDamping>0.4</cfmDamping>
	</gazebo>
	<joint name="RARM_JOINT0" type="revolute">
		<parent link="CHEST_LINK1"/>
		<child link="RARM_LINK0"/>
		<origin rpy="0 -0 0 " xyz="0.008 -0.25 0.181"/>
		<axis xyz="0 1 0"/>
		<limit effort="160.3" lower="-3.14159" upper="1.0472" velocity="4.17044"/>
		<dynamics damping="0.2" friction="0"/>
	</joint>
	<transmission name="RARM_JOINT0_trans" type="pr2_mechanism_model/SimpleTransmission">
		<actuator name="RARM_JOINT0_motor"/>
		<joint name="RARM_JOINT0"/>
		<mechanicalReduction>1</mechanicalReduction>
	</transmission>
	<gazebo reference="RARM_JOINT0">
		<cfmDamping>0.4</cfmDamping>
	</gazebo>
	<joint name="RARM_JOINT1" type="revolute">
		<parent link="RARM_LINK0"/>
		<child link="RARM_LINK1"/>
		<origin rpy="0 -0 0 " xyz="0 0 0"/>
		<axis xyz="1 0 0"/>
		<limit effort="100.4" lower="-1.65806" upper="0.174533" velocity="2.4192"/>
		<dynamics damping="0.2" friction="0"/>
	</joint>
	<transmission name="RARM_JOINT1_trans" type="pr2_mechanism_model/SimpleTransmission">
		<actuator name="RARM_JOINT1_motor"/>
		<joint name="RARM_JOINT1"/>
		<mechanicalReduction>1</mechanicalReduction>
	</transmission>
	<gazebo reference="RARM_JOINT1">
		<cfmDamping>0.4</cfmDamping>
	</gazebo>
	<joint name="RARM_JOINT2" type="revolute">
		<parent link="RARM_LINK1"/>
		<child link="RARM_LINK2"/>
		<origin rpy="0 -0 0 " xyz="0 0 0"/>
		<axis xyz="0 0 1"/>
		<limit effort="48.7" lower="-1.6057" upper="1.6057" velocity="4.15699"/>
		<dynamics damping="0.2" friction="0"/>
	</joint>
	<transmission name="RARM_JOINT2_trans" type="pr2_mechanism_model/SimpleTransmission">
		<actuator name="RARM_JOINT2_motor"/>
		<joint name="RARM_JOINT2"/>
		<mechanicalReduction>1</mechanicalReduction>
	</transmission>
	<gazebo reference="RARM_JOINT2">
		<cfmDamping>0.4</cfmDamping>
	</gazebo>
	<joint name="RARM_JOINT3" type="revolute">
		<parent link="RARM_LINK2"/>
		<child link="RARM_LINK3"/>
		<origin rpy="0 -0 0 " xyz="0 0 -0.25"/>
		<axis xyz="0 1 0"/>
		<limit effort="108.5" lower="-2.3911" upper="0.0349066" velocity="2.23776"/>
		<dynamics damping="0.2" friction="0"/>
	</joint>
	<transmission name="RARM_JOINT3_trans" type="pr2_mechanism_model/SimpleTransmission">
		<actuator name="RARM_JOINT3_motor"/>
		<joint name="RARM_JOINT3"/>
		<mechanicalReduction>1</mechanicalReduction>
	</transmission>
	<gazebo reference="RARM_JOINT3">
		<cfmDamping>0.4</cfmDamping>
	</gazebo>
	<joint name="RARM_JOINT4" type="revolute">
		<parent link="RARM_LINK3"/>
		<child link="RARM_LINK4"/>
		<origin rpy="0 -0 0 " xyz="0 0 -0.25"/>
		<axis xyz="0 0 1"/>
		<limit effort="13.9" lower="-1.85005" upper="1.85005" velocity="4.72794"/>
		<dynamics damping="0.2" friction="0"/>
	</joint>
	<transmission name="RARM_JOINT4_trans" type="pr2_mechanism_model/SimpleTransmission">
		<actuator name="RARM_JOINT4_motor"/>
		<joint name="RARM_JOINT4"/>
		<mechanicalReduction>1</mechanicalReduction>
	</transmission>
	<gazebo reference="RARM_JOINT4">
		<cfmDamping>0.4</cfmDamping>
	</gazebo>
	<joint name="RARM_JOINT5" type="revolute">
		<parent link="RARM_LINK4"/>
		<child link="RARM_LINK5"/>
		<origin rpy="0 -0 0 " xyz="0 0 0"/>
		<axis xyz="1 0 0"/>
		<limit effort="18.74" lower="-1.6057" upper="1.6057" velocity="6.63609"/>
		<dynamics damping="0.2" friction="0"/>
	</joint>
	<transmission name="RARM_JOINT5_trans" type="pr2_mechanism_model/SimpleTransmission">
		<actuator name="RARM_JOINT5_motor"/>
		<joint name="RARM_JOINT5"/>
		<mechanicalReduction>1</mechanicalReduction>
	</transmission>
	<gazebo reference="RARM_JOINT5">
		<cfmDamping>0.4</cfmDamping>
	</gazebo>
	<joint name="RARM_JOINT6" type="revolute">
		<parent link="RARM_LINK5"/>
		<child link="RARM_LINK6"/>
		<origin rpy="0 -0 0 " xyz="0 0 0"/>
		<axis xyz="0 1 0"/>
		<limit effort="16.02" lower="-1.6057" upper="1.6057" velocity="2.77088"/>
		<dynamics damping="0.2" friction="0"/>
	</joint>
	<transmission name="RARM_JOINT6_trans" type="pr2_mechanism_model/SimpleTransmission">
		<actuator name="RARM_JOINT6_motor"/>
		<joint name="RARM_JOINT6"/>
		<mechanicalReduction>1</mechanicalReduction>
	</transmission>
	<gazebo reference="RARM_JOINT6">
		<cfmDamping>0.4</cfmDamping>
	</gazebo>
	<joint name="RARM_JOINT7" type="revolute">
		<parent link="RARM_LINK6"/>
		<child link="RARM_LINK7"/>
		<origin rpy="0 -0 0 " xyz="0 0.0169 -0.114"/>
		<axis xyz="1 0 0"/>
		<limit effort="13.9" lower="-0.279253" upper="2.35619" velocity="4.72794"/>
		<dynamics damping="0.2" friction="0"/>
	</joint>
	<transmission name="RARM_JOINT7_trans" type="pr2_mechanism_model/SimpleTransmission">
		<actuator name="RARM_JOINT7_motor"/>
		<joint name="RARM_JOINT7"/>
		<mechanicalReduction>1</mechanicalReduction>
	</transmission>
	<gazebo reference="RARM_JOINT7">
		<cfmDamping>0.4</cfmDamping>
	</gazebo>
	<joint name="LLEG_JOINT0" type="revolute">
		<parent link="BODY"/>
		<child link="LLEG_LINK0"/>
		<origin rpy="0 -0 0 " xyz="0 0.06 0"/>
		<axis xyz="0 0 1"/>
		<limit effort="86.2" lower="-0.523599" upper="0.785398" velocity="3.54108"/>
		<dynamics damping="0.2" friction="0"/>
	</joint>
	<transmission name="LLEG_JOINT0_trans" type="pr2_mechanism_model/SimpleTransmission">
		<actuator name="LLEG_JOINT0_motor"/>
		<joint name="LLEG_JOINT0"/>
		<mechanicalReduction>1</mechanicalReduction>
	</transmission>
	<gazebo reference="LLEG_JOINT0">
		<cfmDamping>0.4</cfmDamping>
	</gazebo>
	<joint name="LLEG_JOINT1" type="revolute">
		<parent link="LLEG_LINK0"/>
		<child link="LLEG_LINK1"/>
		<origin rpy="0 -0 0 " xyz="0 0 0"/>
		<axis xyz="1 0 0"/>
		<limit effort="175.4" lower="-0.349066" upper="0.610865" velocity="3.80952"/>
		<dynamics damping="0.2" friction="0"/>
	</joint>
	<transmission name="LLEG_JOINT1_trans" type="pr2_mechanism_model/SimpleTransmission">
		<actuator name="LLEG_JOINT1_motor"/>
		<joint name="LLEG_JOINT1"/>
		<mechanicalReduction>1</mechanicalReduction>
	</transmission>
	<gazebo reference="LLEG_JOINT1">
		<cfmDamping>0.4</cfmDamping>
	</gazebo>
	<joint name="LLEG_JOINT2" type="revolute">
		<parent link="LLEG_LINK1"/>
		<child link="LLEG_LINK2"/>
		<origin rpy="0 -0 0 " xyz="0 0 0"/>
		<axis xyz="0 1 0"/>
		<limit effort="151.4" lower="-2.18166" upper="0.733038" velocity="4.42233"/>
		<dynamics damping="0.2" friction="0"/>
	</joint>
	<transmission name="LLEG_JOINT2_trans" type="pr2_mechanism_model/SimpleTransmission">
		<actuator name="LLEG_JOINT2_motor"/>
		<joint name="LLEG_JOINT2"/>
		<mechanicalReduction>1</mechanicalReduction>
	</transmission>
	<gazebo reference="LLEG_JOINT2">
		<cfmDamping>0.4</cfmDamping>
	</gazebo>
	<joint name="LLEG_JOINT3" type="revolute">
		<parent link="LLEG_LINK2"/>
		<child link="LLEG_LINK3"/>
		<origin rpy="0 -0 0 " xyz="0 0 -0.3"/>
		<axis xyz="0 1 0"/>
		<limit effort="168.3" lower="-0.0349066" upper="2.61799" velocity="3.9801"/>
		<dynamics damping="0.2" friction="0"/>
	</joint>
	<transmission name="LLEG_JOINT3_trans" type="pr2_mechanism_model/SimpleTransmission">
		<actuator name="LLEG_JOINT3_motor"/>
		<joint name="LLEG_JOINT3"/>
		<mechanicalReduction>1</mechanicalReduction>
	</transmission>
	<gazebo reference="LLEG_JOINT3">
		<cfmDamping>0.4</cfmDamping>
	</gazebo>
	<joint name="LLEG_JOINT4" type="revolute">
		<parent link="LLEG_LINK3"/>
		<child link="LLEG_LINK4"/>
		<origin rpy="0 -0 0 " xyz="0 0.035 -0.3"/>
		<axis xyz="0 1 0"/>
		<limit effort="131.6" lower="-1.309" upper="0.733038" velocity="5.07937"/>
		<dynamics damping="0.2" friction="0"/>
	</joint>
	<transmission name="LLEG_JOINT4_trans" type="pr2_mechanism_model/SimpleTransmission">
		<actuator name="LLEG_JOINT4_motor"/>
		<joint name="LLEG_JOINT4"/>
		<mechanicalReduction>1</mechanicalReduction>
	</transmission>
	<gazebo reference="LLEG_JOINT4">
		<cfmDamping>0.4</cfmDamping>
	</gazebo>
	<joint name="LLEG_JOINT5" type="revolute">
		<parent link="LLEG_LINK4"/>
		<child link="LLEG_LINK5"/>
		<origin rpy="0 -0 0 " xyz="0 0 0"/>
		<axis xyz="1 0 0"/>
		<limit effort="73.1" lower="-0.785398" upper="0.506145" velocity="9.14286"/>
		<dynamics damping="0.2" friction="0"/>
	</joint>
	<transmission name="LLEG_JOINT5_trans" type="pr2_mechanism_model/SimpleTransmission">
		<actuator name="LLEG_JOINT5_motor"/>
		<joint name="LLEG_JOINT5"/>
		<mechanicalReduction>1</mechanicalReduction>
	</transmission>
	<gazebo reference="LLEG_JOINT5">
		<cfmDamping>0.4</cfmDamping>
	</gazebo>
	<joint name="RLEG_JOINT0" type="revolute">
		<parent link="BODY"/>
		<child link="RLEG_LINK0"/>
		<origin rpy="0 -0 0 " xyz="0 -0.06 0"/>
		<axis xyz="0 0 1"/>
		<limit effort="86.2" lower="-0.785398" upper="0.523599" velocity="3.54108"/>
		<dynamics damping="0.2" friction="0"/>
	</joint>
	<transmission name="RLEG_JOINT0_trans" type="pr2_mechanism_model/SimpleTransmission">
		<actuator name="RLEG_JOINT0_motor"/>
		<joint name="RLEG_JOINT0"/>
		<mechanicalReduction>1</mechanicalReduction>
	</transmission>
	<gazebo reference="RLEG_JOINT0">
		<cfmDamping>0.4</cfmDamping>
	</gazebo>
	<joint name="RLEG_JOINT1" type="revolute">
		<parent link="RLEG_LINK0"/>
		<child link="RLEG_LINK1"/>
		<origin rpy="0 -0 0 " xyz="0 0 0"/>
		<axis xyz="1 0 0"/>
		<limit effort="175.4" lower="-0.610865" upper="0.349066" velocity="3.80952"/>
		<dynamics damping="0.2" friction="0"/>
	</joint>
	<transmission name="RLEG_JOINT1_trans" type="pr2_mechanism_model/SimpleTransmission">
		<actuator name="RLEG_JOINT1_motor"/>
		<joint name="RLEG_JOINT1"/>
		<mechanicalReduction>1</mechanicalReduction>
	</transmission>
	<gazebo reference="RLEG_JOINT1">
		<cfmDamping>0.4</cfmDamping>
	</gazebo>
	<joint name="RLEG_JOINT2" type="revolute">
		<parent link="RLEG_LINK1"/>
		<child link="RLEG_LINK2"/>
		<origin rpy="0 -0 0 " xyz="0 0 0"/>
		<axis xyz="0 1 0"/>
		<limit effort="151.4" lower="-2.18166" upper="0.733038" velocity="4.42233"/>
		<dynamics damping="0.2" friction="0"/>
	</joint>
	<transmission name="RLEG_JOINT2_trans" type="pr2_mechanism_model/SimpleTransmission">
		<actuator name="RLEG_JOINT2_motor"/>
		<joint name="RLEG_JOINT2"/>
		<mechanicalReduction>1</mechanicalReduction>
	</transmission>
	<gazebo reference="RLEG_JOINT2">
		<cfmDamping>0.4</cfmDamping>
	</gazebo>
	<joint name="RLEG_JOINT3" type="revolute">
		<parent link="RLEG_LINK2"/>
		<child link="RLEG_LINK3"/>
		<origin rpy="0 -0 0 " xyz="0 0 -0.3"/>
		<axis xyz="0 1 0"/>
		<limit effort="168.3" lower="-0.0349066" upper="2.61799" velocity="3.9801"/>
		<dynamics damping="0.2" friction="0"/>
	</joint>
	<transmission name="RLEG_JOINT3_trans" type="pr2_mechanism_model/SimpleTransmission">
		<actuator name="RLEG_JOINT3_motor"/>
		<joint name="RLEG_JOINT3"/>
		<mechanicalReduction>1</mechanicalReduction>
	</transmission>
	<gazebo reference="RLEG_JOINT3">
		<cfmDamping>0.4</cfmDamping>
	</gazebo>
	<joint name="RLEG_JOINT4" type="revolute">
		<parent link="RLEG_LINK3"/>
		<child link="RLEG_LINK4"/>
		<origin rpy="0 -0 0 " xyz="0 -0.035 -0.3"/>
		<axis xyz="0 1 0"/>
		<limit effort="131.6" lower="-1.309" upper="0.733038" velocity="5.07937"/>
		<dynamics damping="0.2" friction="0"/>
	</joint>
	<transmission name="RLEG_JOINT4_trans" type="pr2_mechanism_model/SimpleTransmission">
		<actuator name="RLEG_JOINT4_motor"/>
		<joint name="RLEG_JOINT4"/>
		<mechanicalReduction>1</mechanicalReduction>
	</transmission>
	<gazebo reference="RLEG_JOINT4">
		<cfmDamping>0.4</cfmDamping>
	</gazebo>
	<joint name="RLEG_JOINT5" type="revolute">
		<parent link="RLEG_LINK4"/>
		<child link="RLEG_LINK5"/>
		<origin rpy="0 -0 0 " xyz="0 0 0"/>
		<axis xyz="1 0 0"/>
		<limit effort="73.1" lower="-0.506145" upper="0.785398" velocity="9.14286"/>
		<dynamics damping="0.2" friction="0"/>
	</joint>
	<transmission name="RLEG_JOINT5_trans" type="pr2_mechanism_model/SimpleTransmission">
		<actuator name="RLEG_JOINT5_motor"/>
		<joint name="RLEG_JOINT5"/>
		<mechanicalReduction>1</mechanicalReduction>
	</transmission>
	<gazebo reference="RLEG_JOINT5">
		<cfmDamping>0.4</cfmDamping>
	</gazebo>
	<link name="head_root"/>
	<joint name="head_root_joint" type="fixed">
		<parent link="head_root"/>
		<child link="head"/>
	</joint>
	<link name="head">
		<inertial>
			<origin rpy="0 0 0" xyz="-0.075493 3.3383E-05 0.02774"/>
			<mass value="1.4199"/>
			<inertia ixx="0.0039688" ixy="-1.5797E-06" ixz="-0.00089293" iyy="0.0041178" iyz="-6.8415E-07" izz="0.0035243"/>
		</inertial>
		<visual>
			<origin rpy="0 0 0" xyz="0 0  0"/>
			<geometry>
				<mesh filename="package://multisense_description/meshes/head.dae"/>
			</geometry>
			<material name="">
				<color rgba="0.9098 0.44314 0.031373 1"/>
			</material>
		</visual>
		<collision>
			<origin rpy="0 0 0" xyz="-0.0503 0 -0.00195"/>
			<geometry>
				<box size="0.1311 0.12 0.0591"/>
			</geometry>
		</collision>
	</link>
	<joint name="left_camera_optical_joint" type="continuous">
		<parent link="left_camera_optical_frame"/>
		<child link="motor"/>
	</joint>
	<link name="motor"/>
	<link name="spindle"/>
	<joint name="motor_joint" type="continuous">
		<parent link="motor"/>
		<child link="spindle"/>
		<axis xyz="0 0 1"/>
	</joint>
	<joint name="spindle_joint" type="continuous">
		<parent link="spindle"/>
		<child link="hokuyo_link"/>
	</joint>
	<link name="hokuyo_link">
		<inertial>
			<origin rpy="0 0 0" xyz="0.012428 0.0004084 -0.0041835"/>
			<mass value="0.057664"/>
			<inertia ixx="3.7174E-05" ixy="4.9927E-08" ixz="1.1015E-05" iyy="4.2412E-05" iyz="-9.8165E-09" izz="4.167E-05"/>
		</inertial>
		<visual>
			<origin rpy="-1.9179632679 -1.57079632679 0" xyz="-.03 -.1 0"/>
			<geometry>
				<mesh filename="package://multisense_description/meshes/head_camera.dae"/>
			</geometry>
			<material name="">
				<color rgba="0.72941 0.35686 0.023529 1"/>
			</material>
		</visual>
		<collision>
			<origin rpy="0 0 0" xyz="0.03 0 0.0235"/>
			<geometry>
				<cylinder length="0.047" radius="0.024425"/>
			</geometry>
		</collision>
	</link>
	<link name="head_hokuyo_frame"/>
	<joint name="head_hokuyo_frame_joint" type="fixed">
		<!--
     This transform accounts for the fact ROS expects laser data in the x forward,
     y left, z up frame and the calibraton has the data in x left, y up, z forward.
     Thus a roll of -90 * a pitch of -90 will make the appropriate transform. Note
     Roll and pitch are both with respect to the origional x left, y up, z forward frame
     -->
		<origin rpy="-1.57079632679 -1.57079632679 0.0" xyz="0 0 0"/>
		<parent link="hokuyo_link"/>
		<child link="head_hokuyo_frame"/>
	</joint>
	<joint name="left_camera_frame_joint" type="fixed">
		<!-- optical frame collocated with tilting DOF -->
		<origin xyz="0.0 0.035 -0.002"/>
		<parent link="head"/>
		<child link="left_camera_frame"/>
	</joint>
	<link name="left_camera_frame">
		<inertial>
			<mass value="0.1"/>
			<origin xyz="0 0 0"/>
			<inertia ixx="0.001" ixy="0.0" ixz="0.0" iyy="0.001" iyz="0.0" izz="0.001"/>
		</inertial>
	</link>
	<joint name="left_camera_optical_frame_joint" type="fixed">
		<origin rpy="-1.57079632679 0.0 -1.57079632679" xyz="0 0 0"/>
		<parent link="left_camera_frame"/>
		<child link="left_camera_optical_frame"/>
	</joint>
	<link name="left_camera_optical_frame"/>
	<joint name="right_camera_frame_joint" type="fixed">
		<origin xyz="0.0 -0.035 -0.002"/>
		<parent link="head"/>
		<child link="right_camera_frame"/>
	</joint>
	<link name="right_camera_frame">
		<inertial>
			<mass value="0.1"/>
			<origin xyz="0 0 0"/>
			<inertia ixx="0.001" ixy="0.0" ixz="0.0" iyy="0.001" iyz="0.0" izz="0.001"/>
		</inertial>
	</link>
	<joint name="right_camera_optical_frame_joint" type="fixed">
		<origin rpy="-1.5708 0.0 -1.5708" xyz="0 0 0"/>
		<parent link="right_camera_frame"/>
		<child link="right_camera_optical_frame"/>
	</joint>
	<link name="right_camera_optical_frame"/>
	<joint name="center_top_led_frame_joint" type="fixed">
		<origin xyz="0.01125 0.0 0.0105"/>
		<parent link="head"/>
		<child link="center_top_led_frame"/>
	</joint>
	<link name="center_top_led_frame">
		<inertial>
			<mass value="0.1"/>
			<origin xyz="0 0 0"/>
			<inertia ixx="0.001" ixy="0.0" ixz="0.0" iyy="0.001" iyz="0.0" izz="0.001"/>
		</inertial>
	</link>
	<joint name="center_bottom_led_frame_joint" type="fixed">
		<origin xyz="0.01125 0.0 -0.0155"/>
		<parent link="head"/>
		<child link="center_bottom_led_frame"/>
	</joint>
	<link name="center_bottom_led_frame">
		<inertial>
			<mass value="0.1"/>
			<origin xyz="0 0 0"/>
			<inertia ixx="0.001" ixy="0.0" ixz="0.0" iyy="0.001" iyz="0.0" izz="0.001"/>
		</inertial>
	</link>
	<joint name="left_led_frame_joint" type="fixed">
		<origin rpy="0 -0.15 0.53" xyz="-0.01443 0.07452 0.050346"/>
		<parent link="head"/>
		<child link="left_led_frame"/>
	</joint>
	<link name="left_led_frame">
		<inertial>
			<mass value="0.1"/>
			<origin xyz="0 0 0"/>
			<inertia ixx="0.001" ixy="0.0" ixz="0.0" iyy="0.001" iyz="0.0" izz="0.001"/>
		</inertial>
	</link>
	<joint name="right_led_frame_joint" type="fixed">
		<origin rpy="0 -0.15 -0.53" xyz="-0.01443 -0.07452 0.050346"/>
		<parent link="head"/>
		<child link="right_led_frame"/>
	</joint>
	<link name="right_led_frame">
		<inertial>
			<mass value="0.1"/>
			<origin xyz="0 0 0"/>
			<inertia ixx="0.001" ixy="0.0" ixz="0.0" iyy="0.001" iyz="0.0" izz="0.001"/>
		</inertial>
	</link>
	<link name="accel"/>
	<joint name="accel_joint" type="fixed">
		<origin rpy="0 1.5707 0" xyz="-.0475 .0302 -.00275"/>
		<parent link="head_root"/>
		<child link="accel"/>
	</joint>
	<link name="mag"/>
	<joint name="mag_joint" type="fixed">
		<origin rpy="0 1.5707 0" xyz="-.0475 .0302 -.00275"/>
		<parent link="head_root"/>
		<child link="mag"/>
	</joint>
	<link name="gyro"/>
	<joint name="gyro_joint" type="fixed">
		<origin rpy="1.5707 3.14159 1.5707 " xyz="-.0476 .0388 -.00075"/>
		<parent link="head_root"/>
		<child link="gyro"/>
	</joint>
	<joint name="hrp2_to_multisense" type="fixed">
		<parent link="HEAD_LINK1"/>
		<child link="head_root"/>
		<!-- for multisense / multisense_description -->
		<origin rpy="0 0 0" xyz="0.0 0.0 0.1"/>
	</joint>
	<joint name="LARM_cb_jig_joint" type="fixed">
		<origin rpy="0.000000 -0.000000 1.570796" xyz="0 0.2 -0.2"/>
		<parent link="LARM_LINK6"/>
		<child link="LARM_cb_jig"/>
	</joint>
	<link name="LARM_cb_jig"/>
	<joint name="RARM_cb_jig_joint" type="fixed">
		<origin rpy="0.000000 -0.000000 1.570796" xyz="0 -0.2 -0.2"/>
		<parent link="RARM_LINK6"/>
		<child link="RARM_cb_jig"/>
	</joint>
	<link name="RARM_cb_jig"/>
	<joint name="rleg_end_coords_joint" type="fixed">
		<origin rpy="0.000000 -0.000000 0.000000" xyz="0.0 -0.01 -0.115"/>
		<parent link="RLEG_LINK5"/>
		<child link="rleg_end_coords"/>
	</joint>
	<link name="rleg_end_coords"/>
	<joint name="lleg_end_coords_joint" type="fixed">
		<origin rpy="0.000000 -0.000000 0.000000" xyz="0.0 0.01 -0.115"/>
		<parent link="LLEG_LINK5"/>
		<child link="lleg_end_coords"/>
	</joint>
	<link name="lleg_end_coords"/>
	<joint name="rarm_end_coords_joint" type="fixed">
		<origin rpy="-0.000000 1.570796 0.000000" xyz="0.0 0.0169 -0.174"/>
		<parent link="RARM_LINK6"/>
		<child link="rarm_end_coords"/>
	</joint>
	<link name="rarm_end_coords"/>
	<joint name="larm_end_coords_joint" type="fixed">
		<origin rpy="-0.000000 1.570796 0.000000" xyz="0.0 -0.0169 -0.174"/>
		<parent link="LARM_LINK6"/>
		<child link="larm_end_coords"/>
	</joint>
	<link name="larm_end_coords"/>
	<joint name="head_end_coords_joint" type="fixed">
		<origin rpy="3.141593 1.396265 3.141593" xyz="0.079 0.0 0.1335"/>
		<parent link="HEAD_LINK1"/>
		<child link="head_end_coords"/>
	</joint>
	<link name="head_end_coords"/>
	<joint name="torso_end_coords_joint" type="fixed">
		<origin rpy="0.000000 -0.000000 0.000000" xyz="-0.032 0.0 -1.0557"/>
		<parent link="CHEST_LINK1"/>
		<child link="torso_end_coords"/>
	</joint>
	<link name="torso_end_coords"/>
	<gazebo reference="LLEG_LINK5">
		<kp>1000000.0</kp>
		<kd>100.0</kd>
		<mu1>1.5</mu1>
		<mu2>1.5</mu2>
		<fdir1>1 0 0</fdir1>
		<maxVel>10.0</maxVel>
		<minDepth>0.00</minDepth>
	</gazebo>
	<gazebo reference="RLEG_LINK5">
		<kp>1000000.0</kp>
		<kd>100.0</kd>
		<mu1>1.5</mu1>
		<mu2>1.5</mu2>
		<fdir1>1 0 0</fdir1>
		<maxVel>10.0</maxVel>
		<minDepth>0.00</minDepth>
	</gazebo>
</robot>
